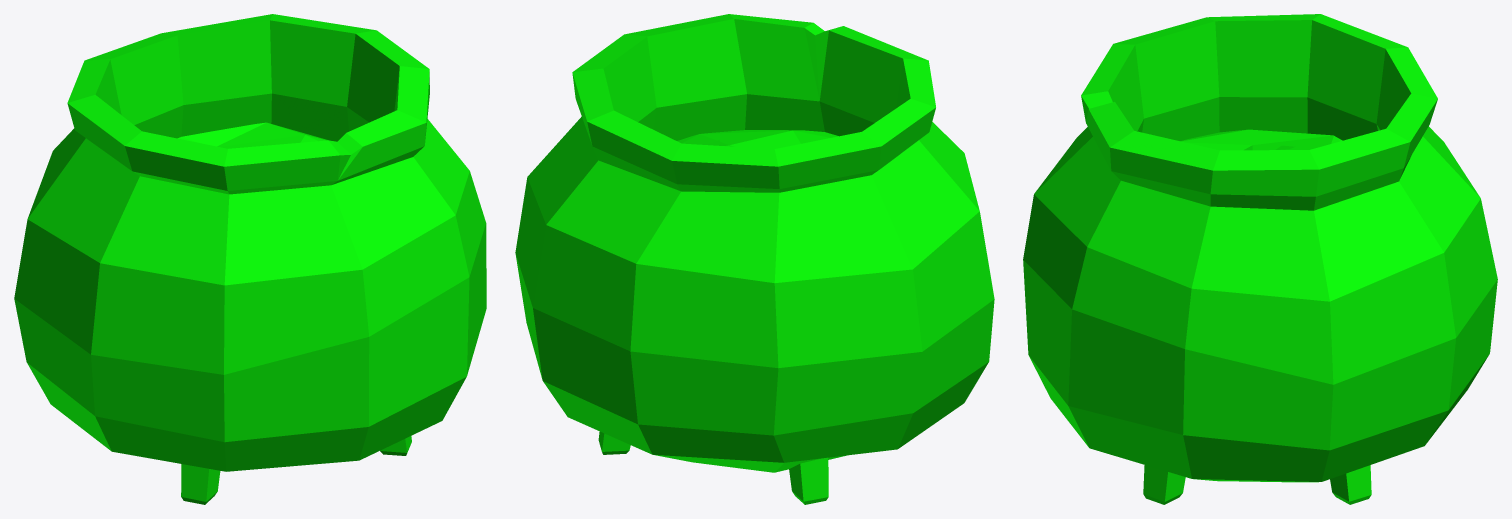
The model's file is SM_Cauldron_Big_Soup.fbx.
The picture shows the model from 3 angles, left to right: view 1: azimuth 30°, elevation 25°; view 2: azimuth 150°, elevation 25°; view 3: azimuth 270°, elevation 25°; orthographic projection.
Parts seen in each view (by area): view 1: cauldron-big-soup; view 2: cauldron-big-soup; view 3: cauldron-big-soup.
Part boxes in pixels (x1,y1,x2,y2): cauldron-big-soup: (14, 14, 486, 504); cauldron-big-soup: (515, 14, 994, 504); cauldron-big-soup: (1023, 14, 1497, 504).
Size of the model in its own units: 0.5149 by 0.4341 by 0.5123.
